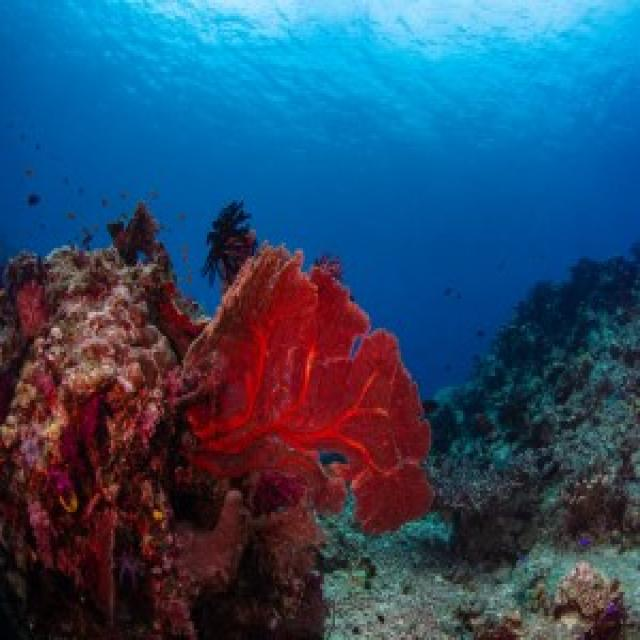Coral: (180, 238, 433, 538)
